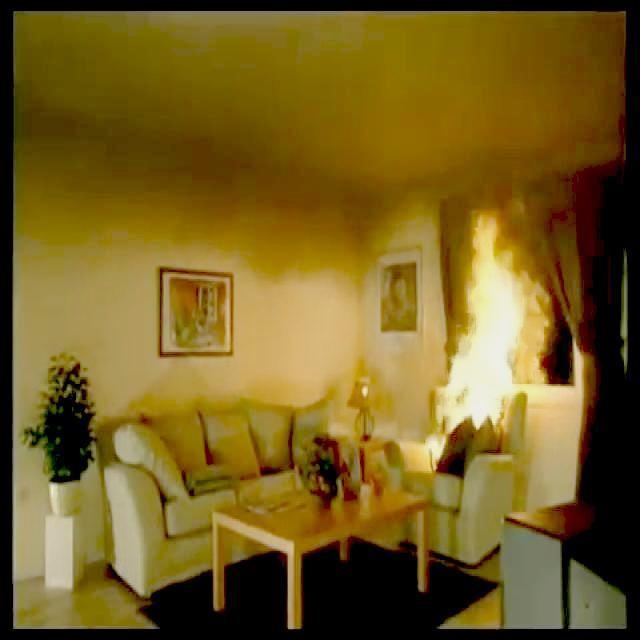fire: (423, 211, 548, 439)
